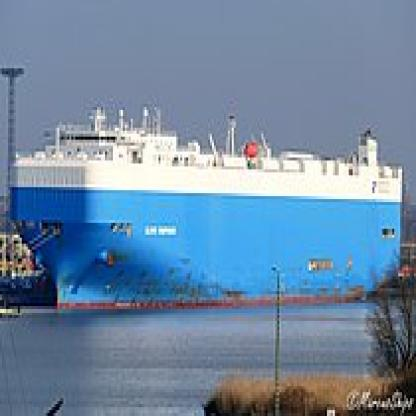Tanker: (11, 127, 412, 321)
